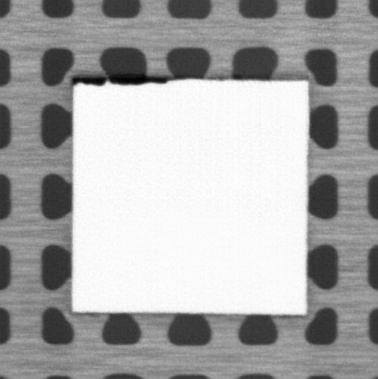DIE_BROKEN: (71, 75, 171, 86)
